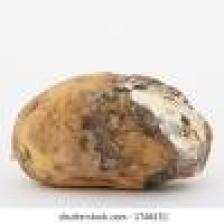Damaged potato: (18, 71, 215, 195)
